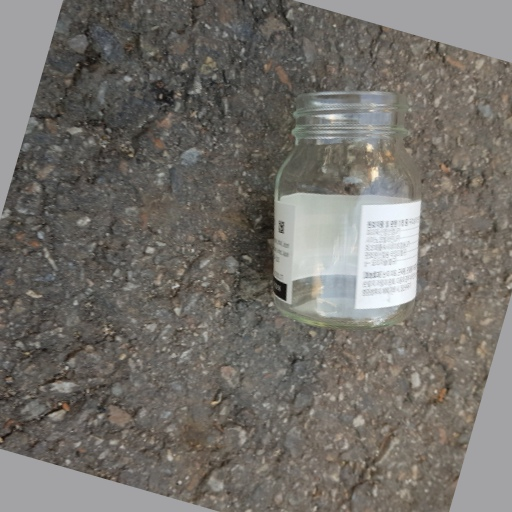Glass_5: (258, 89, 430, 338)
